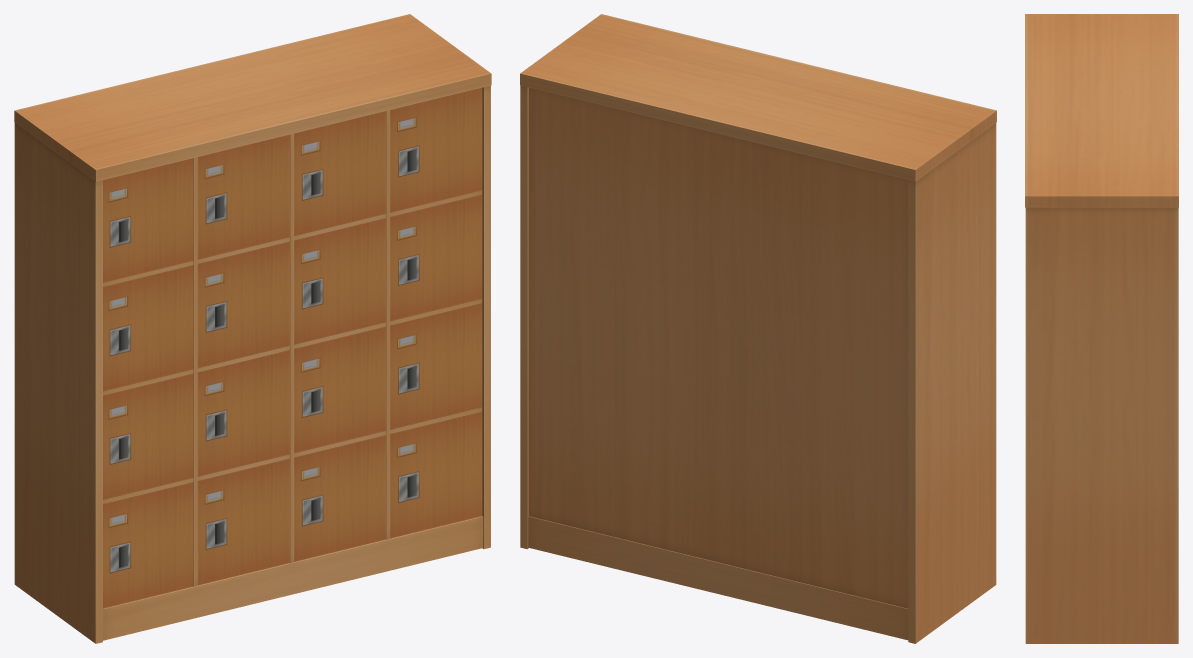
File: set_shoecupboard_b_05.fbx
3 views of the same model, side by side, from view 1: azimuth 30°, elevation 25°; view 2: azimuth 150°, elevation 25°; view 3: azimuth 270°, elevation 25° (orthographic). The views are drawn at different scales.
Visible parts, largest first — view 1: shoecupboard_b_05, door_b_05_08, door_b_05_14, door_b_05_06, door_b_05_07, door_b_05_15, door_b_05_16, door_b_05_11, door_b_05_10, door_b_05_12, door_b_05_05, door_b_05_13 (+5 smaller); view 2: shoecupboard_b_05; view 3: shoecupboard_b_05.
Boxes of the visible parts, x1,y1,x2,y2 form: shoecupboard_b_05: (14, 14, 491, 643); door_b_05_08: (197, 458, 289, 585); door_b_05_14: (390, 194, 482, 321); door_b_05_06: (197, 241, 289, 368); door_b_05_07: (197, 350, 289, 476); door_b_05_15: (390, 303, 482, 429); door_b_05_16: (390, 411, 482, 538); door_b_05_11: (294, 326, 385, 453); door_b_05_10: (294, 218, 385, 344); door_b_05_12: (294, 435, 385, 561); door_b_05_05: (197, 134, 289, 259); door_b_05_13: (390, 88, 482, 212); shoecupboard_b_05: (520, 14, 996, 643); shoecupboard_b_05: (1025, 14, 1178, 643).
Size of the model in its own units: 105 by 120 by 37.38.
